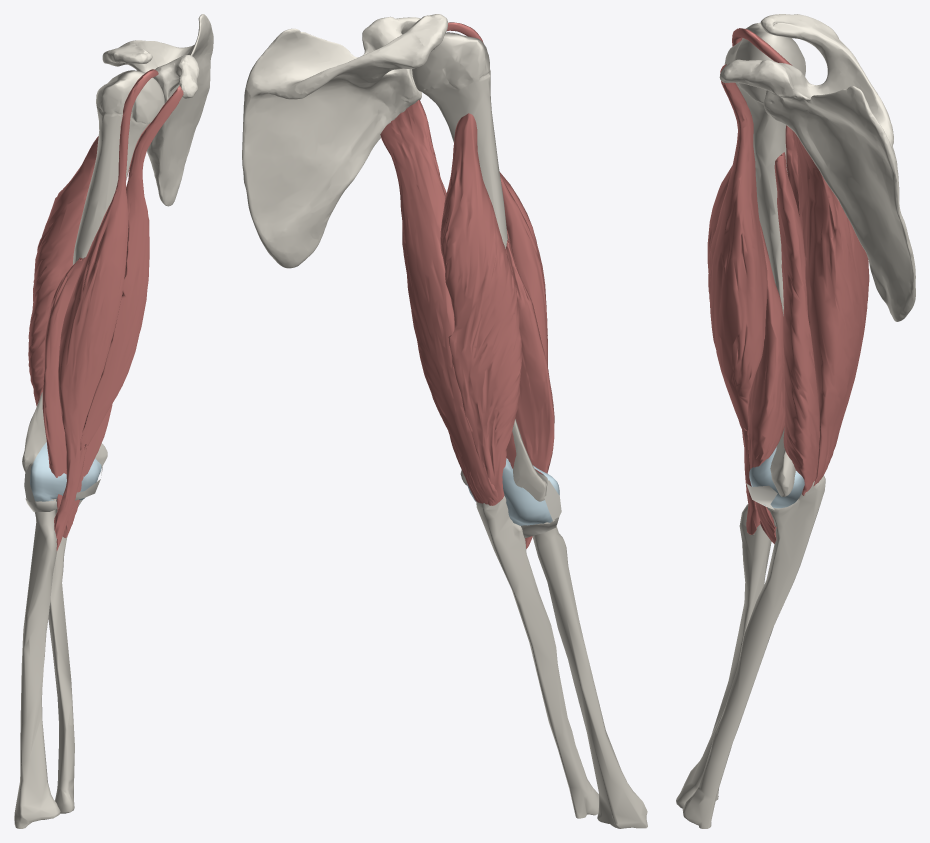
Rendered from arm-v1.glb.
The picture shows the model from 3 angles, left to right: view 1: azimuth 30°, elevation 25°; view 2: azimuth 150°, elevation 25°; view 3: azimuth 270°, elevation 25°; orthographic projection. The views are drawn at different scales.
Parts seen in each view (by area): view 1: Long head of biceps brachii.r, Radius.r, Scapula.r, Short head of biceps brachii.r, Humerus.r, Lateral head of triceps brachii.r, Brachialis muscle.r, Ulna.r, Articular capsule of elbow joint.r; view 2: Scapula.r, Lateral head of triceps brachii.r, Long head of triceps brachii.r, Humerus.r, Ulna.r, Radius.r, Brachialis muscle.r, Long head of biceps brachii.r, Articular capsule of elbow joint.r; view 3: Scapula.r, Long head of triceps brachii.r, Short head of biceps brachii.r, Ulna.r, Medial head of triceps brachii.r, Humerus.r, Brachialis muscle.r, Radius.r, Long head of biceps brachii.r, Articular capsule of elbow joint.r, Lateral head of triceps brachii.r, Ulnar collateral ligament.r.
Boxes of the visible parts, left/top/right/bottom form: Long head of biceps brachii.r: left=54, top=69, right=158, bottom=550; Radius.r: left=14, top=499, right=60, bottom=828; Scapula.r: left=102, top=14, right=213, bottom=206; Short head of biceps brachii.r: left=80, top=85, right=183, bottom=450; Humerus.r: left=22, top=70, right=164, bottom=471; Lateral head of triceps brachii.r: left=28, top=136, right=98, bottom=406; Brachialis muscle.r: left=42, top=257, right=112, bottom=537; Ulna.r: left=48, top=500, right=82, bottom=813; Articular capsule of elbow joint.r: left=30, top=442, right=101, bottom=501; Scapula.r: left=242, top=14, right=447, bottom=268; Lateral head of triceps brachii.r: left=440, top=113, right=521, bottom=505; Long head of triceps brachii.r: left=380, top=100, right=498, bottom=504; Humerus.r: left=412, top=32, right=548, bottom=501; Ulna.r: left=476, top=496, right=598, bottom=818; Radius.r: left=532, top=522, right=647, bottom=828; Brachialis muscle.r: left=505, top=228, right=554, bottom=548; Long head of biceps brachii.r: left=447, top=22, right=547, bottom=366; Articular capsule of elbow joint.r: left=467, top=458, right=559, bottom=525; Scapula.r: left=719, top=14, right=915, bottom=321; Long head of triceps brachii.r: left=792, top=130, right=869, bottom=486; Short head of biceps brachii.r: left=708, top=64, right=767, bottom=430; Ulna.r: left=682, top=475, right=825, bottom=828; Medial head of triceps brachii.r: left=774, top=152, right=819, bottom=495; Humerus.r: left=724, top=23, right=805, bottom=496; Brachialis muscle.r: left=748, top=221, right=785, bottom=543; Radius.r: left=676, top=504, right=771, bottom=808; Long head of biceps brachii.r: left=707, top=28, right=792, bottom=534; Articular capsule of elbow joint.r: left=749, top=446, right=804, bottom=508; Lateral head of triceps brachii.r: left=785, top=125, right=799, bottom=216; Ulnar collateral ligament.r: left=746, top=483, right=777, bottom=509.
Size of the model in its own units: 0.2281 by 0.5578 by 0.1395.
